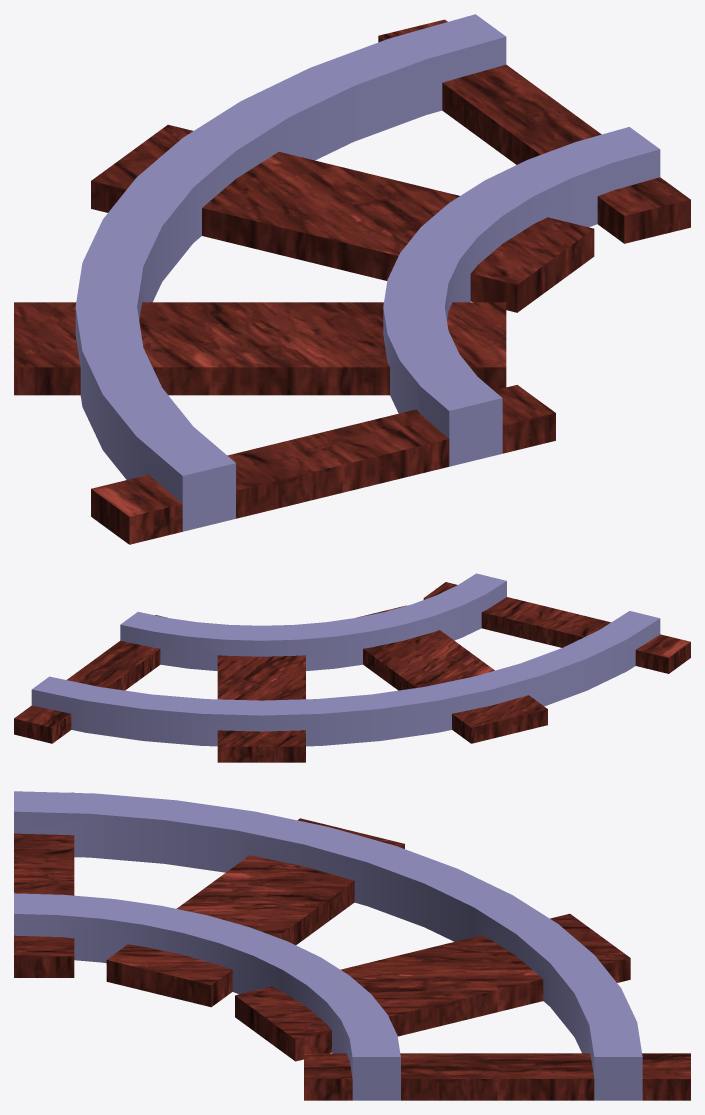
Rendered from track-corner.glb.
The picture shows the model from 3 angles, top to bottom: view 1: azimuth 30°, elevation 25°; view 2: azimuth 150°, elevation 25°; view 3: azimuth 270°, elevation 25°; orthographic projection. The views are drawn at different scales.
Visible parts, largest first — view 1: track_mineCurve; view 2: track_mineCurve; view 3: track_mineCurve.
Part boxes in pixels (x1,y1,x2,y2): track_mineCurve: (14, 14, 690, 544); track_mineCurve: (14, 573, 690, 762); track_mineCurve: (14, 791, 690, 1100).
Bounding box in the file's own units: 0.7 × 0.05 × 0.7.
3 materials, 1 textured.
